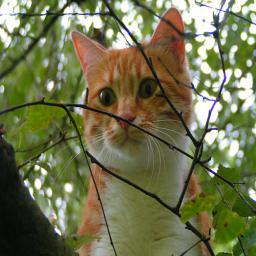catnose: (117, 111, 135, 131)
